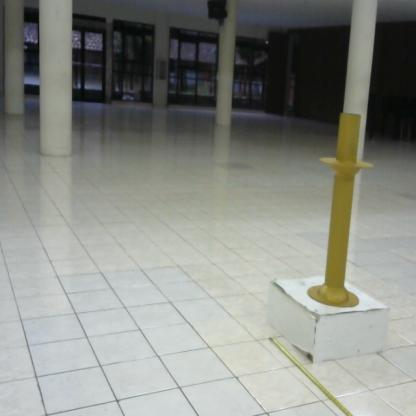pole: (308, 104, 376, 309)
